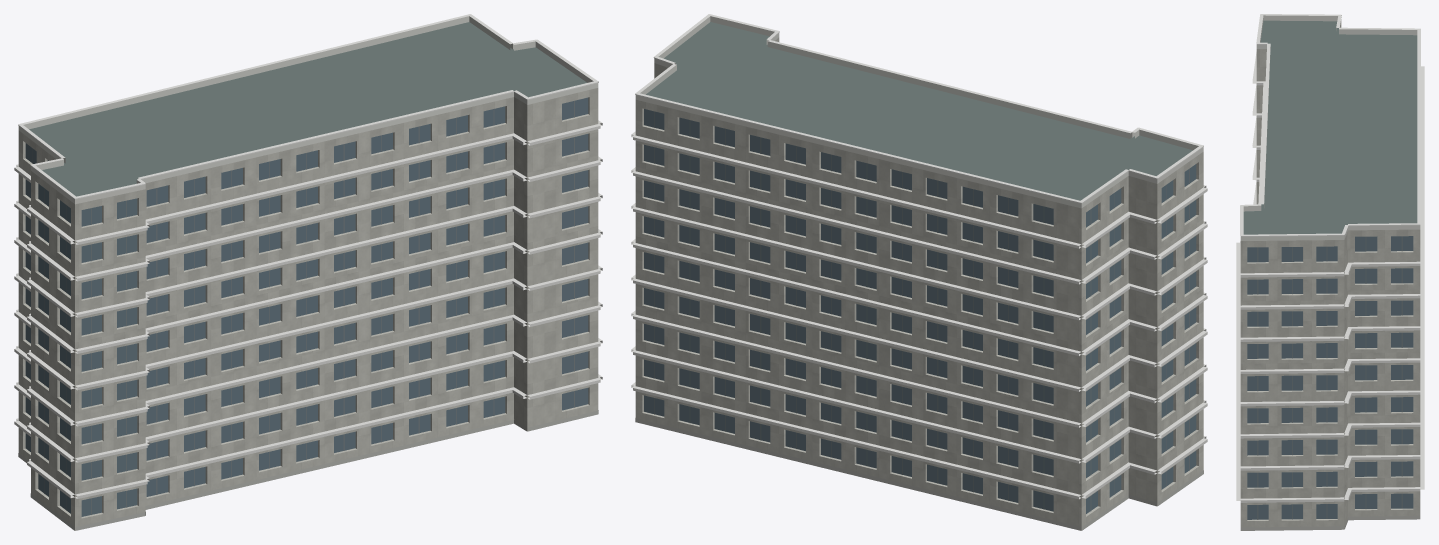
3 renders of one model, left to right at view 1: azimuth 30°, elevation 25°; view 2: azimuth 150°, elevation 25°; view 3: azimuth 270°, elevation 25°, orthographic. The views are drawn at different scales.
Parts seen in each view (by area): view 1: eng2__wall, eng2__glass, eng2__roof, eng2__trim, eng2__parapet, eng2__frame, eng2__base; view 2: eng2__wall, eng2__glass, eng2__roof, eng2__trim, eng2__parapet, eng2__frame, eng2__base; view 3: eng2__wall, eng2__roof, eng2__glass, eng2__trim, eng2__parapet, eng2__frame, eng2__base.
Boxes of the visible parts, x1,y1,x2,y2 form: eng2__wall: [18, 88, 598, 530]; eng2__glass: [25, 97, 588, 516]; eng2__roof: [29, 22, 586, 196]; eng2__trim: [14, 14, 602, 498]; eng2__parapet: [18, 16, 598, 204]; eng2__frame: [32, 100, 574, 514]; eng2__base: [18, 410, 598, 530]; eng2__wall: [635, 37, 1203, 530]; eng2__glass: [644, 109, 1196, 513]; eng2__roof: [646, 22, 1192, 200]; eng2__trim: [631, 14, 1207, 499]; eng2__parapet: [635, 16, 1203, 208]; eng2__frame: [654, 111, 1189, 510]; eng2__base: [635, 418, 1203, 530]; eng2__wall: [1240, 21, 1420, 528]; eng2__roof: [1243, 20, 1417, 234]; eng2__glass: [1247, 236, 1413, 519]; eng2__trim: [1236, 14, 1424, 502]; eng2__parapet: [1240, 15, 1420, 240]; eng2__frame: [1257, 236, 1402, 519]; eng2__base: [1240, 516, 1420, 530].
Size of the model in its own units: 55.54 by 33.9 by 19.62.
7 materials, 1 textured.
